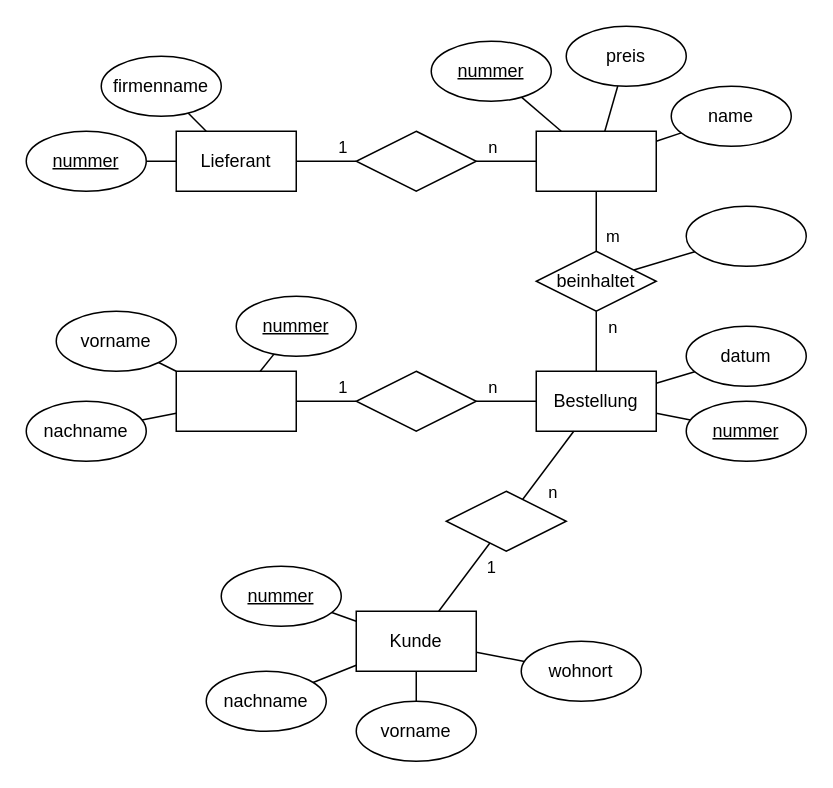
Image size: 833x788. Some labels were removed from this diagram. The shapes that lost their labels are listed below. From the top down, each one's centre as x and y in pixels, then its label:
At (415,160): "bietet an".
At (595,160): "Artikelsorte".
At (745,235): "anzahl".
At (235,400): "Mitarbeiter".
At (415,400): "bearbeitet".
At (505,520): "tätigt".
